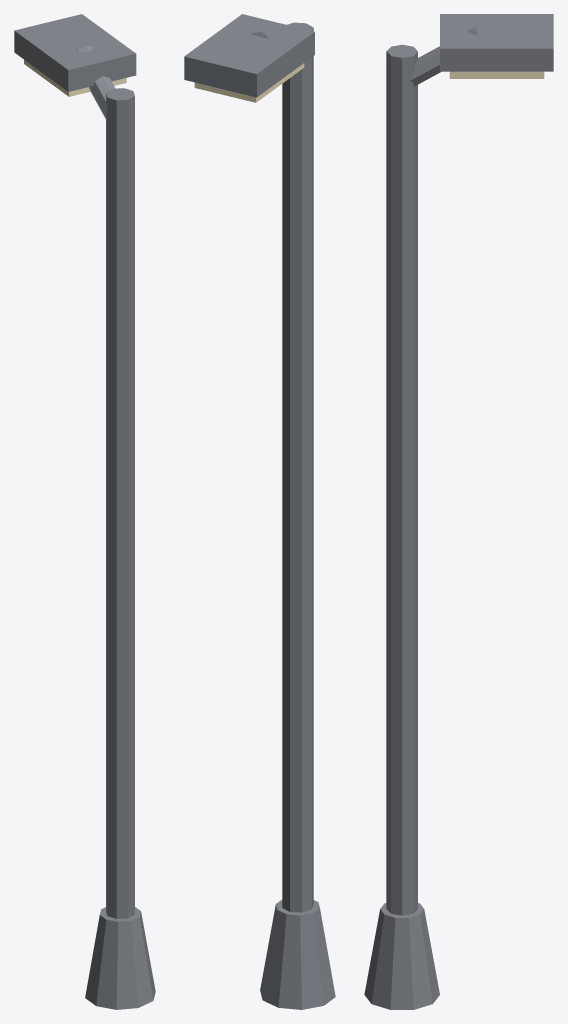
Rendered from streetlamp.glb.
The picture shows the model from 3 angles, left to right: view 1: azimuth 30°, elevation 25°; view 2: azimuth 150°, elevation 25°; view 3: azimuth 270°, elevation 25°; orthographic projection. The views are drawn at different scales.
Parts seen in each view (by area): view 1: streetlamp; view 2: streetlamp; view 3: streetlamp.
Boxes of the visible parts, box(x1,y1,x2,y2) form: streetlamp: box(14, 14, 155, 1009); streetlamp: box(184, 14, 335, 1009); streetlamp: box(364, 14, 553, 1009).
Size of the model in its own units: 0.26 by 3.38 by 0.6.
